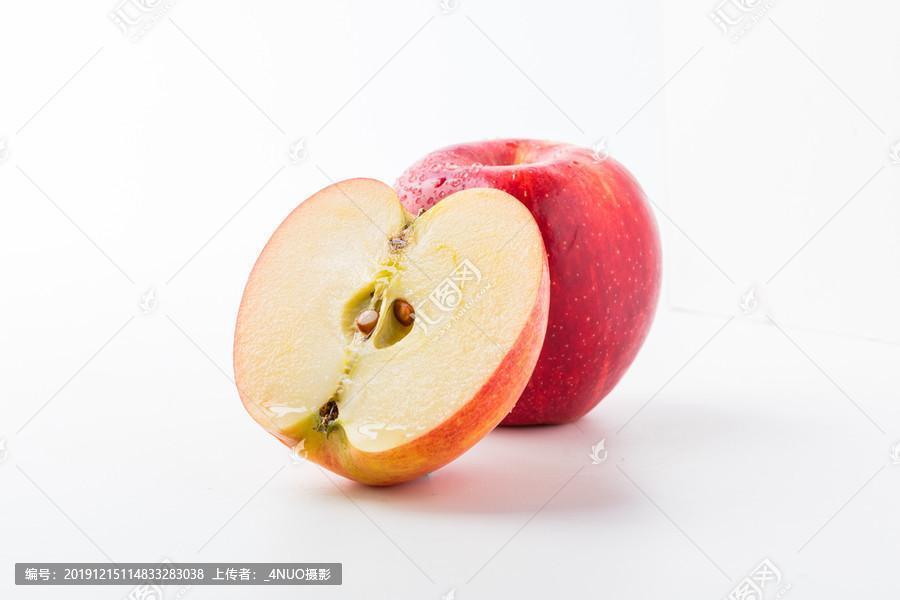apple: (347, 138, 663, 427)
